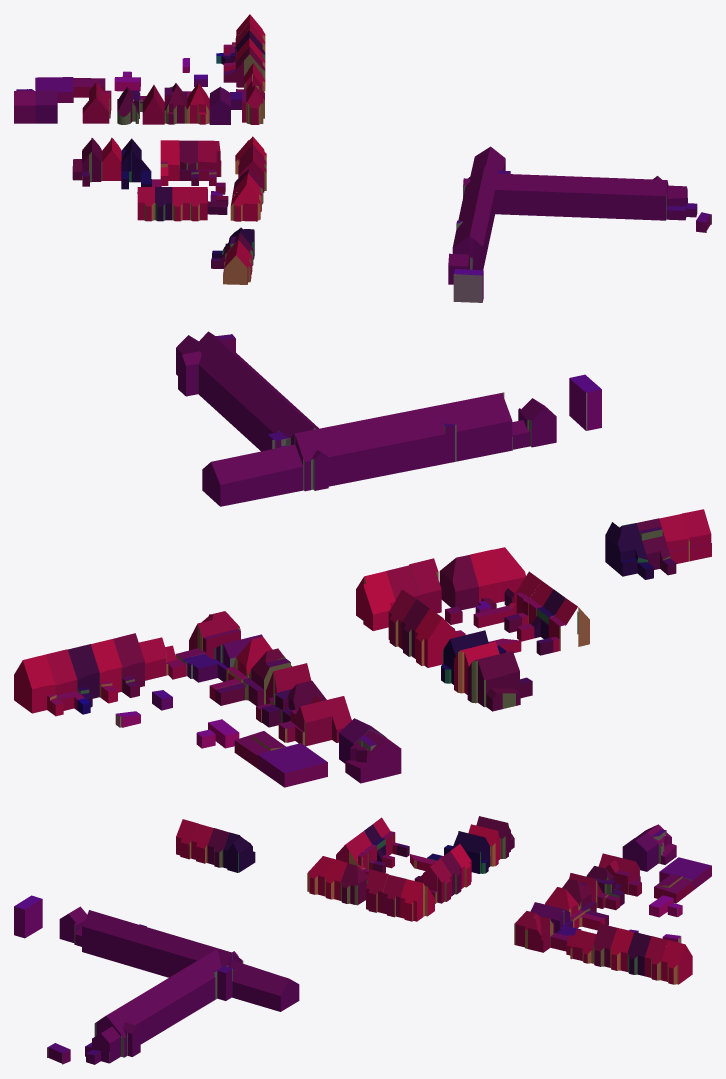
Rendered from buildings_4_6.glb.
3 renders of one model, top to bottom at view 1: azimuth 30°, elevation 25°; view 2: azimuth 150°, elevation 25°; view 3: azimuth 270°, elevation 25°, orthographic. The views are drawn at different scales.
Parts seen in each view (by area): view 1: buildings_4_6; view 2: buildings_4_6; view 3: buildings_4_6.
Part boxes in pixels (x1,y1,x2,y2): buildings_4_6: (14, 14, 711, 302); buildings_4_6: (14, 331, 711, 787); buildings_4_6: (14, 816, 711, 1064).
Bounding box in the file's own units: 159 × 12.26 × 210.
